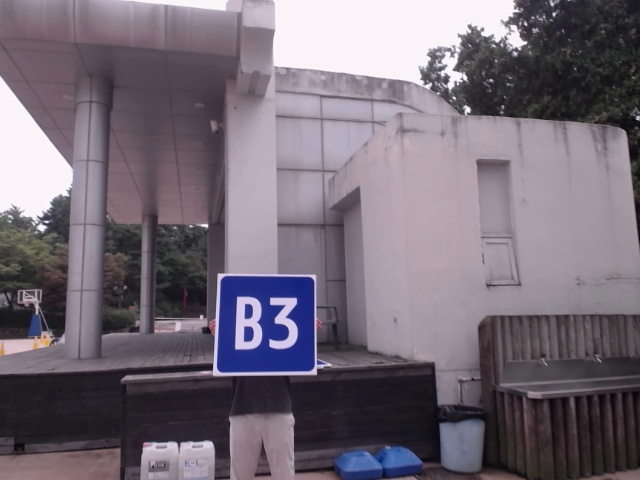delivery_b3: (219, 273, 314, 374)
